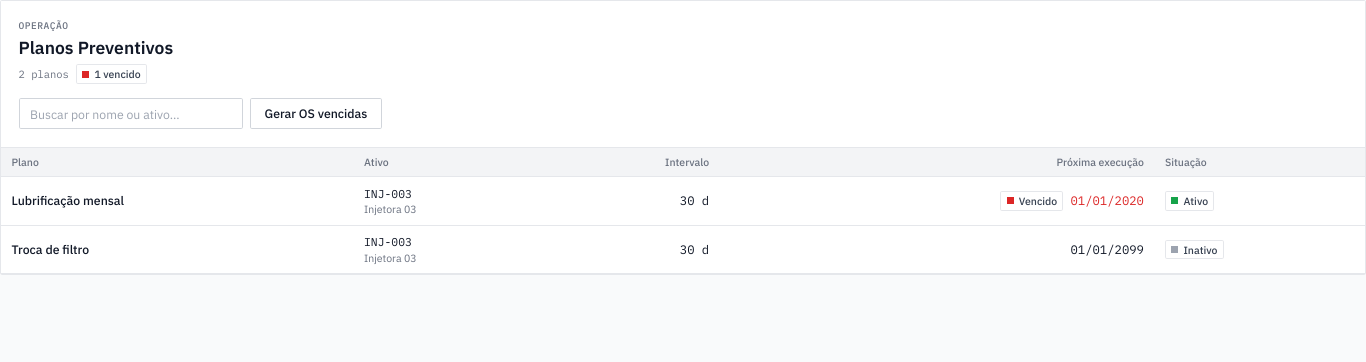
Scenario: PreventivePlansListPage › deve mostrar as falhas como erro, sem dizer que não há plano vencido
Expected: the text "Lubrificação mensal" is shown, x1=12 y1=192 x2=124 y2=208
Click the button "Gerar OS vencidas". click: [316, 114]
box: x1=250 y1=98 x2=382 y2=129
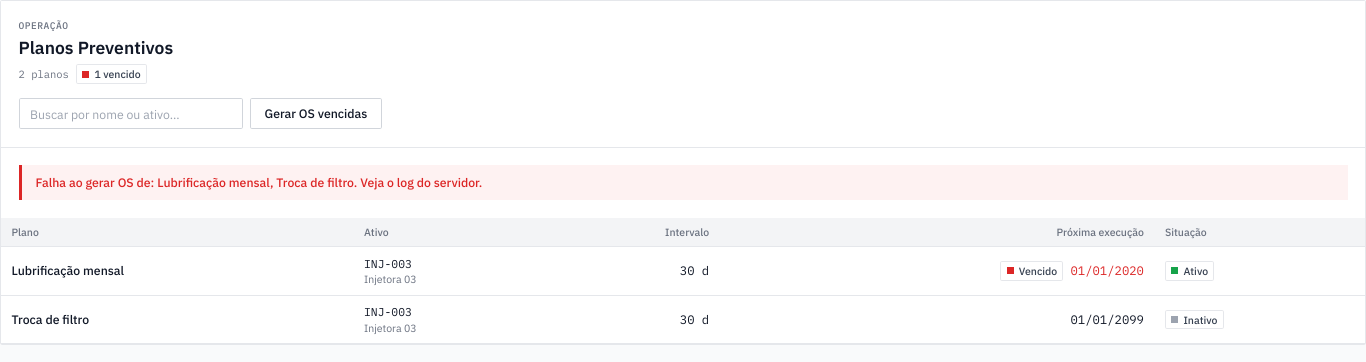
Result: the text "Falha ao gerar OS de: Lubrificação mensal, Troca de filtro. Veja o log do servidor." is shown at x1=36 y1=174 x2=482 y2=190
